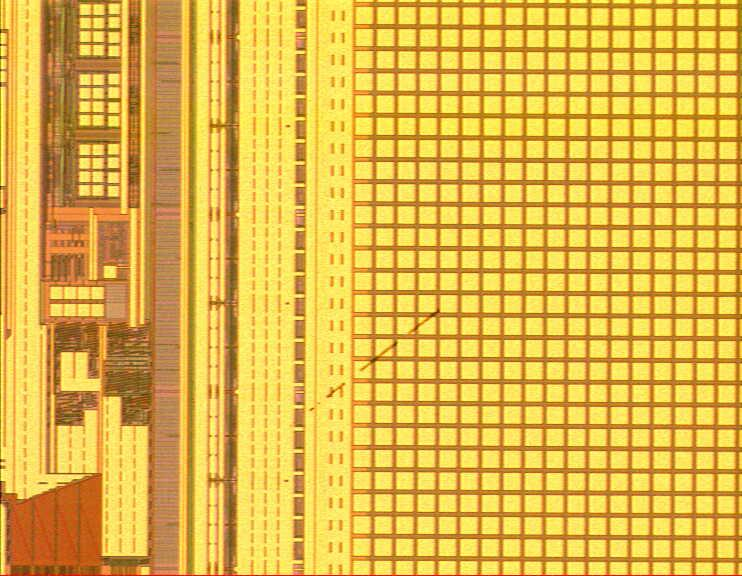SCRATCH: (300, 303, 449, 420)
